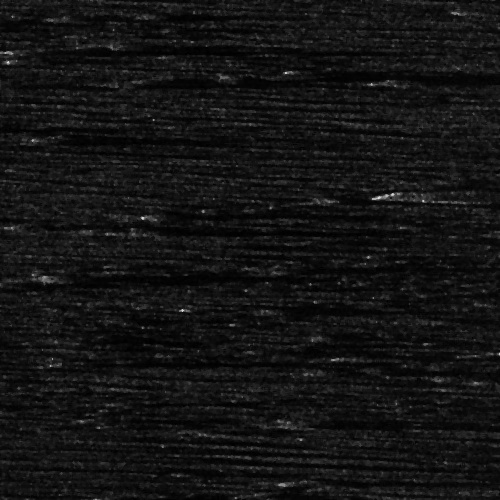object: (44, 73, 179, 88), (222, 68, 337, 79), (249, 261, 322, 272), (411, 5, 500, 14), (37, 267, 78, 286), (0, 44, 67, 55), (335, 76, 408, 85), (59, 40, 142, 47), (324, 366, 377, 375), (32, 496, 137, 500), (405, 187, 436, 198), (275, 417, 338, 422), (129, 209, 170, 216), (243, 307, 284, 312), (53, 358, 94, 363), (47, 134, 78, 139), (118, 229, 149, 234), (134, 229, 165, 234), (280, 477, 311, 482), (37, 15, 78, 18), (0, 80, 8, 85)
shadow: (111, 73, 500, 88), (58, 267, 333, 286), (31, 44, 375, 55), (280, 68, 500, 79), (286, 261, 500, 272), (84, 496, 500, 500), (150, 209, 362, 216), (150, 229, 431, 234), (134, 229, 414, 234), (74, 358, 351, 363), (63, 134, 339, 139), (372, 76, 500, 85), (296, 477, 500, 482), (100, 40, 241, 47), (421, 187, 496, 198), (307, 417, 453, 422), (264, 307, 408, 312), (351, 366, 425, 375), (57, 15, 266, 18), (463, 5, 500, 14), (0, 19, 100, 22), (0, 80, 44, 85)
